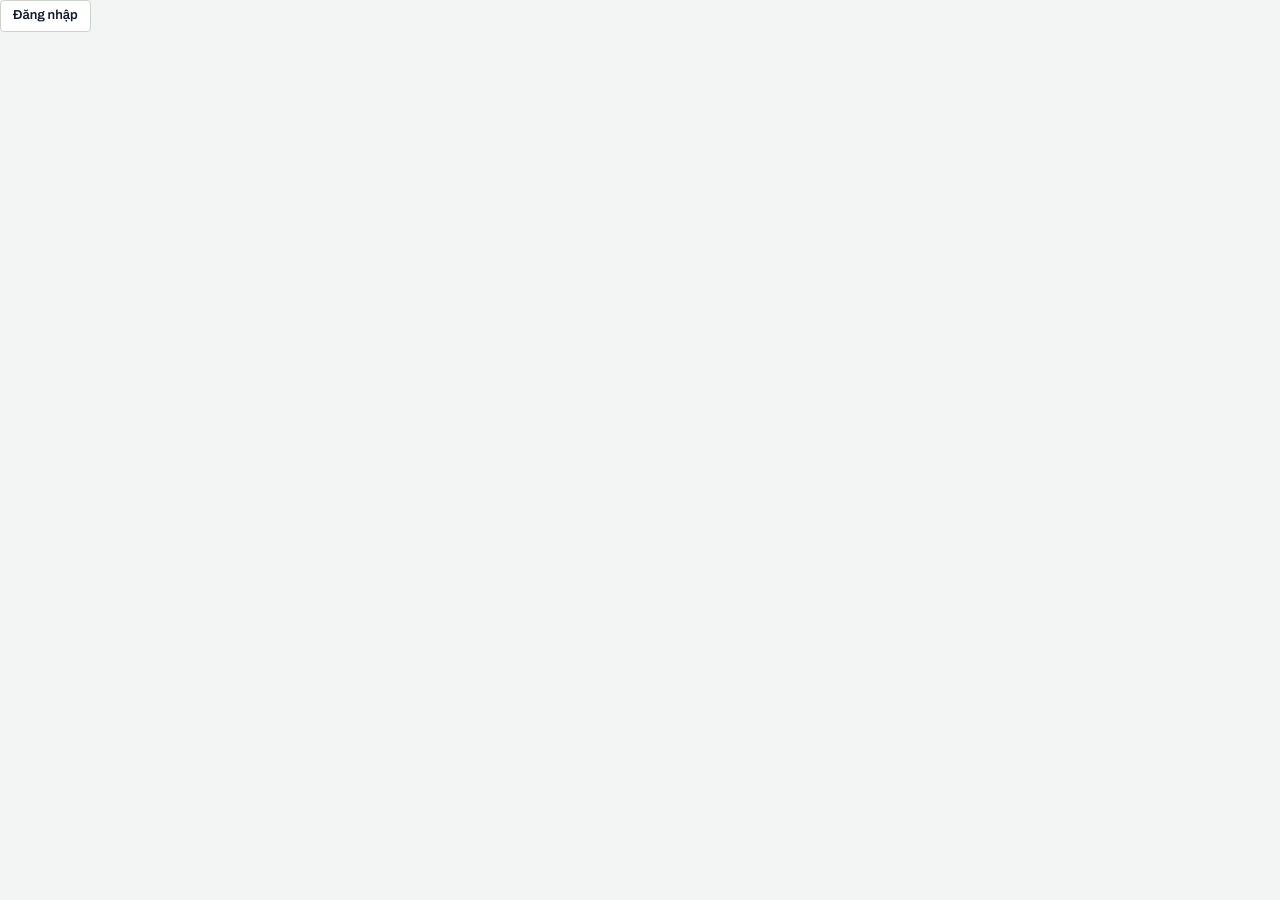
AuthWidget › shows the field errors, focuses the email and sends nothing when submitted empty
Click the button "Đăng nhập" at (45, 16), box [0, 0, 91, 32]
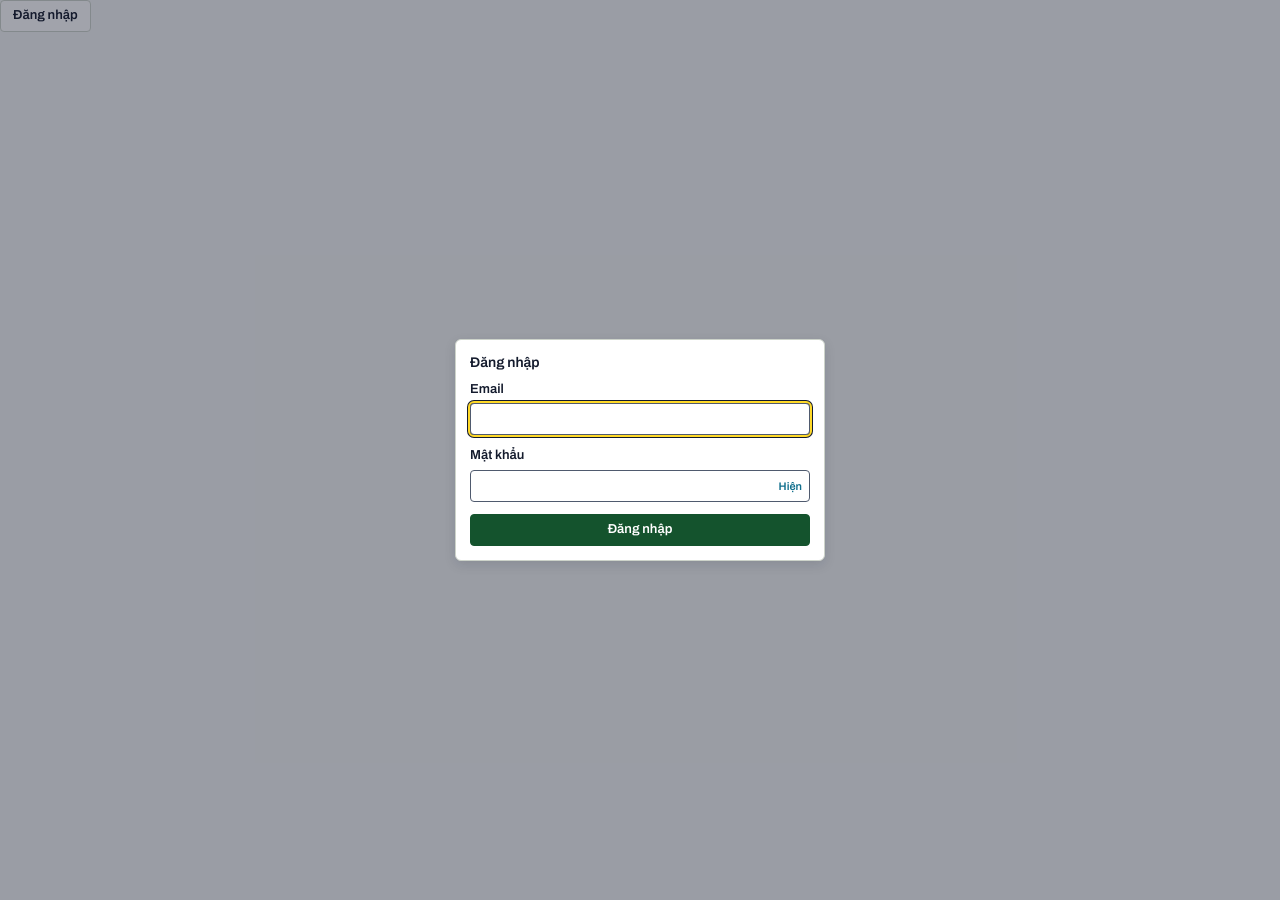
Click the button "Đăng nhập" at (640, 530), box [470, 514, 810, 546]
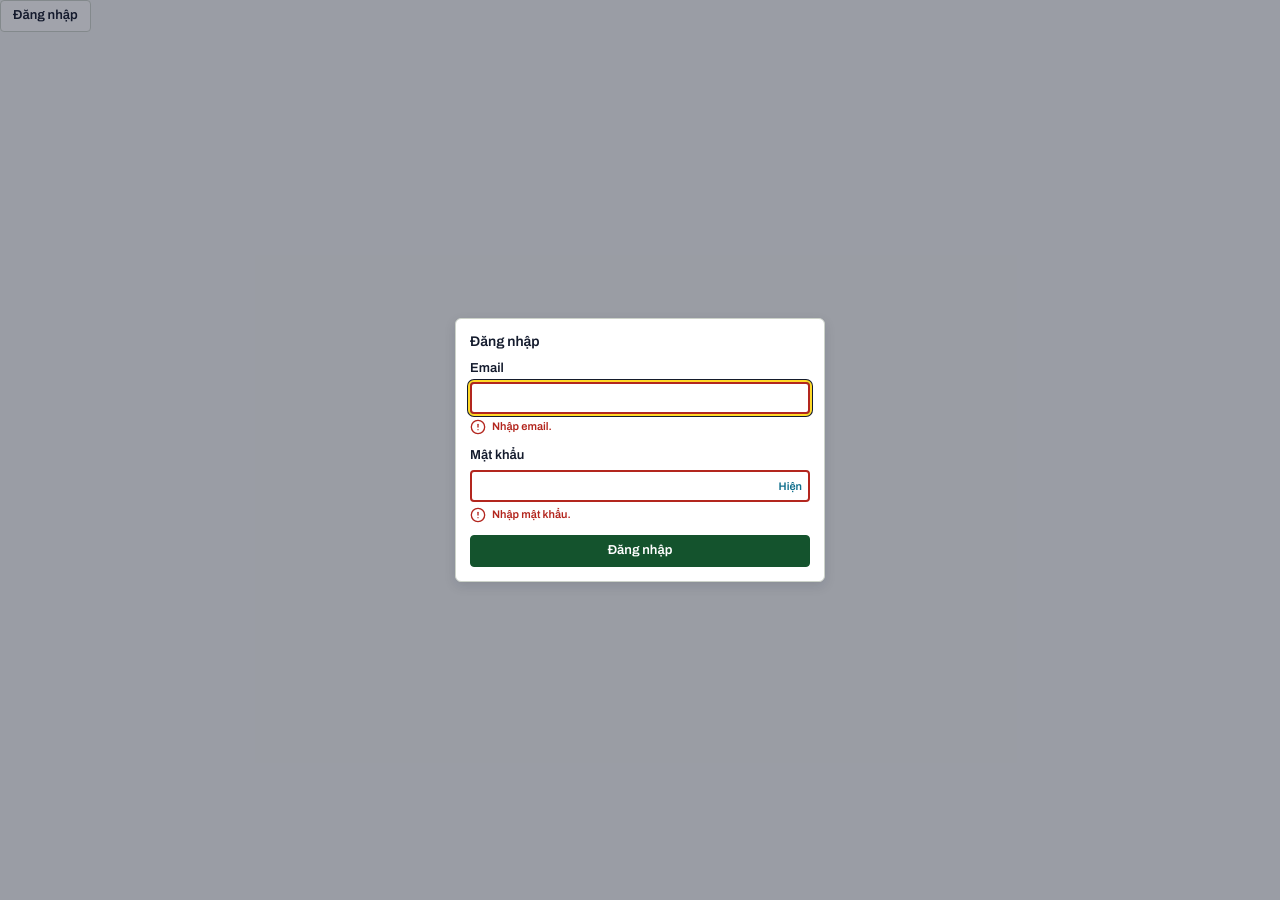
Check: the text "Nhập email." is shown, box [470, 419, 552, 435]
